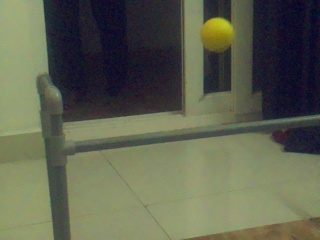ball: (201, 17, 233, 51)
